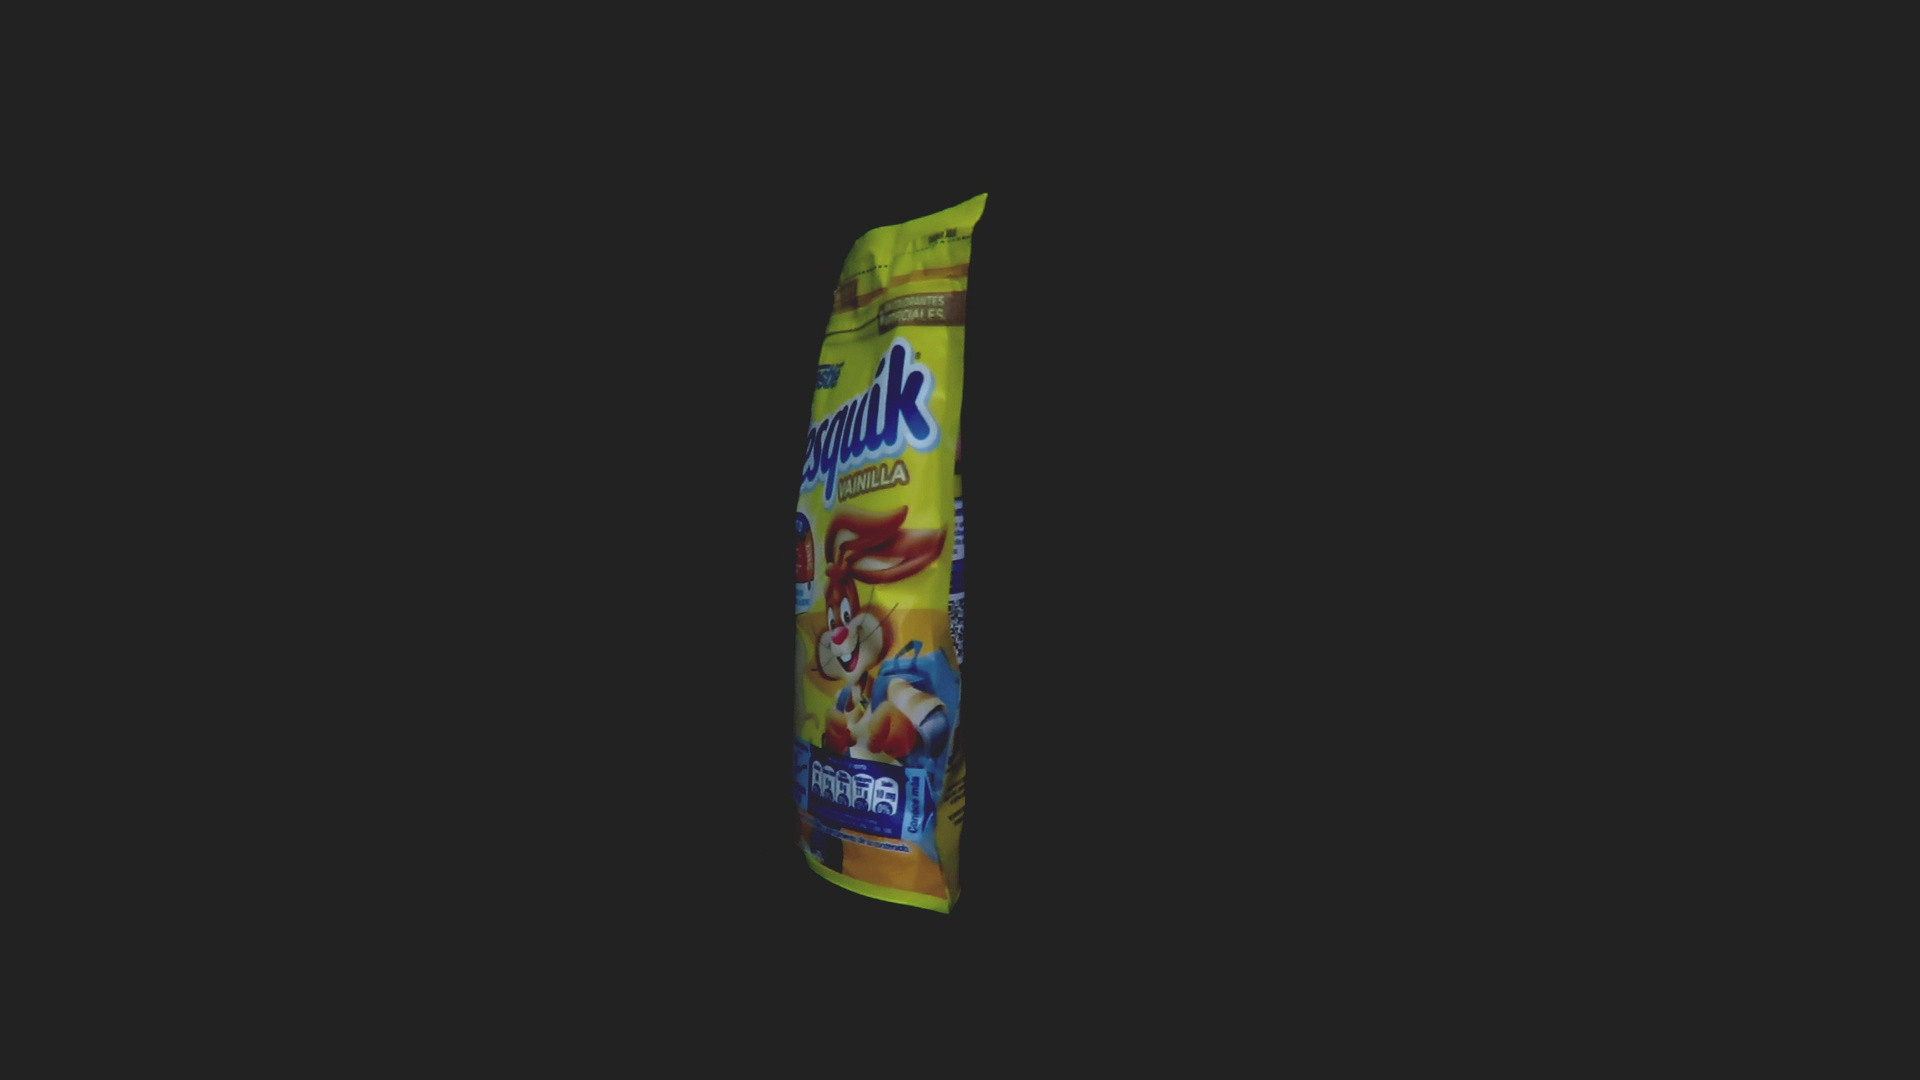COL0170306DYP20000: (789, 189, 994, 920)
